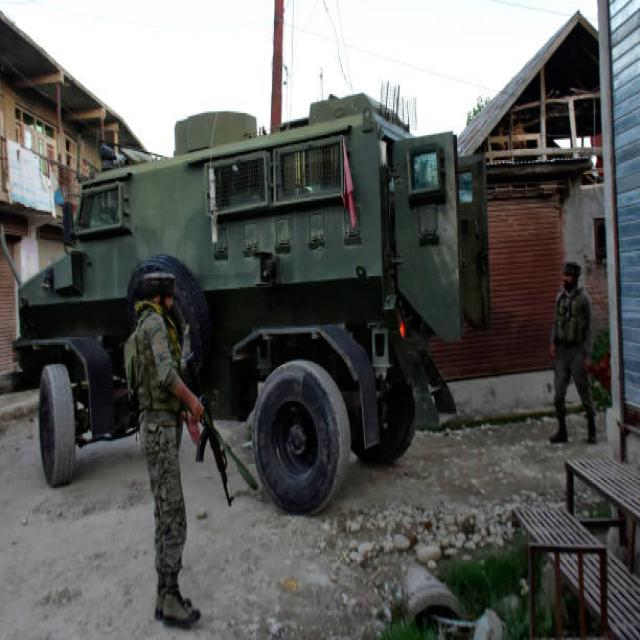LMV: (14, 94, 488, 513)
soldier: (125, 273, 203, 623), (550, 264, 595, 441)
